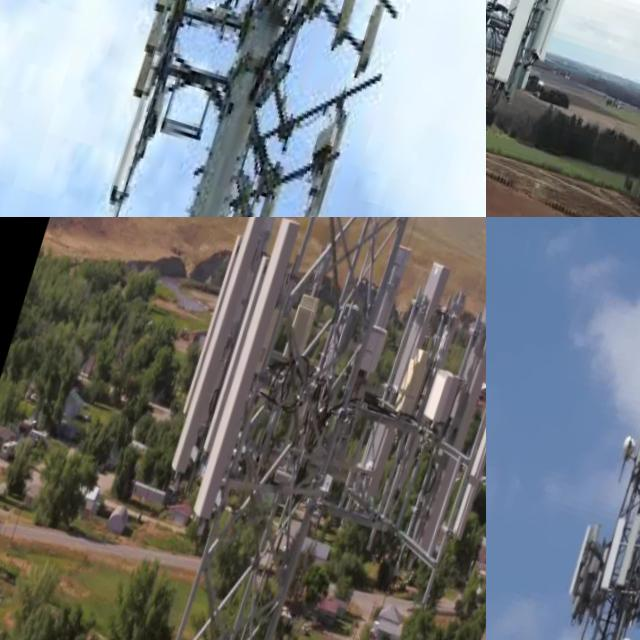GSM Antenna: (187, 217, 308, 534), (349, 247, 466, 549), (165, 217, 285, 494), (407, 271, 486, 567), (176, 219, 246, 427), (492, 0, 580, 89), (295, 97, 359, 217), (451, 344, 486, 545), (110, 90, 157, 201), (526, 0, 592, 68), (280, 284, 328, 370), (351, 0, 395, 80), (596, 509, 635, 595), (251, 151, 295, 217), (568, 521, 600, 599), (327, 0, 368, 53), (615, 506, 640, 589), (225, 176, 261, 217), (137, 47, 167, 90)
Microwave Antenna: (614, 424, 640, 467), (614, 633, 640, 640)
